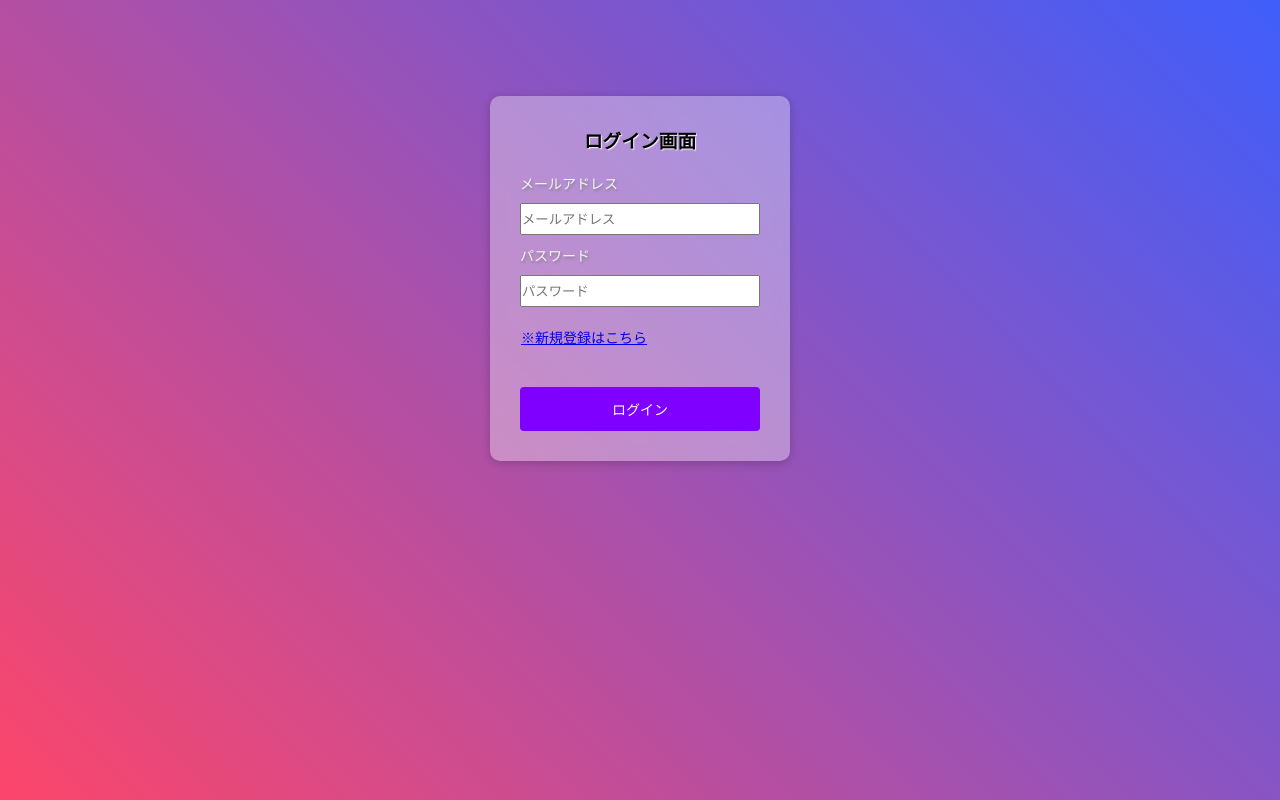
Scenario: バリデートチェックのテスト › バリデート必須チェック（メールアドレス）
Step 1. Click the button "ログイン" → (640, 409), box [520, 387, 760, 431]
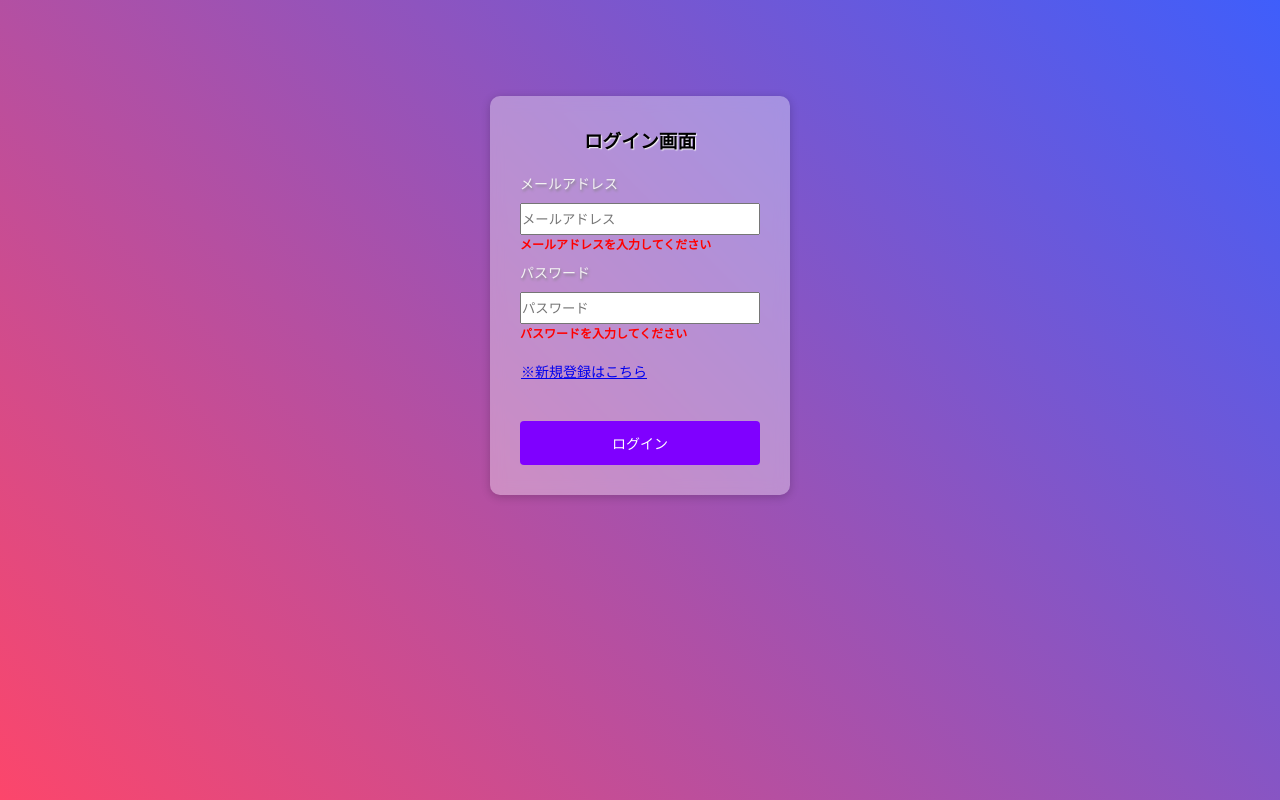
expect the text "メールアドレスを入力してください" is shown: met, box [520, 237, 711, 252]
